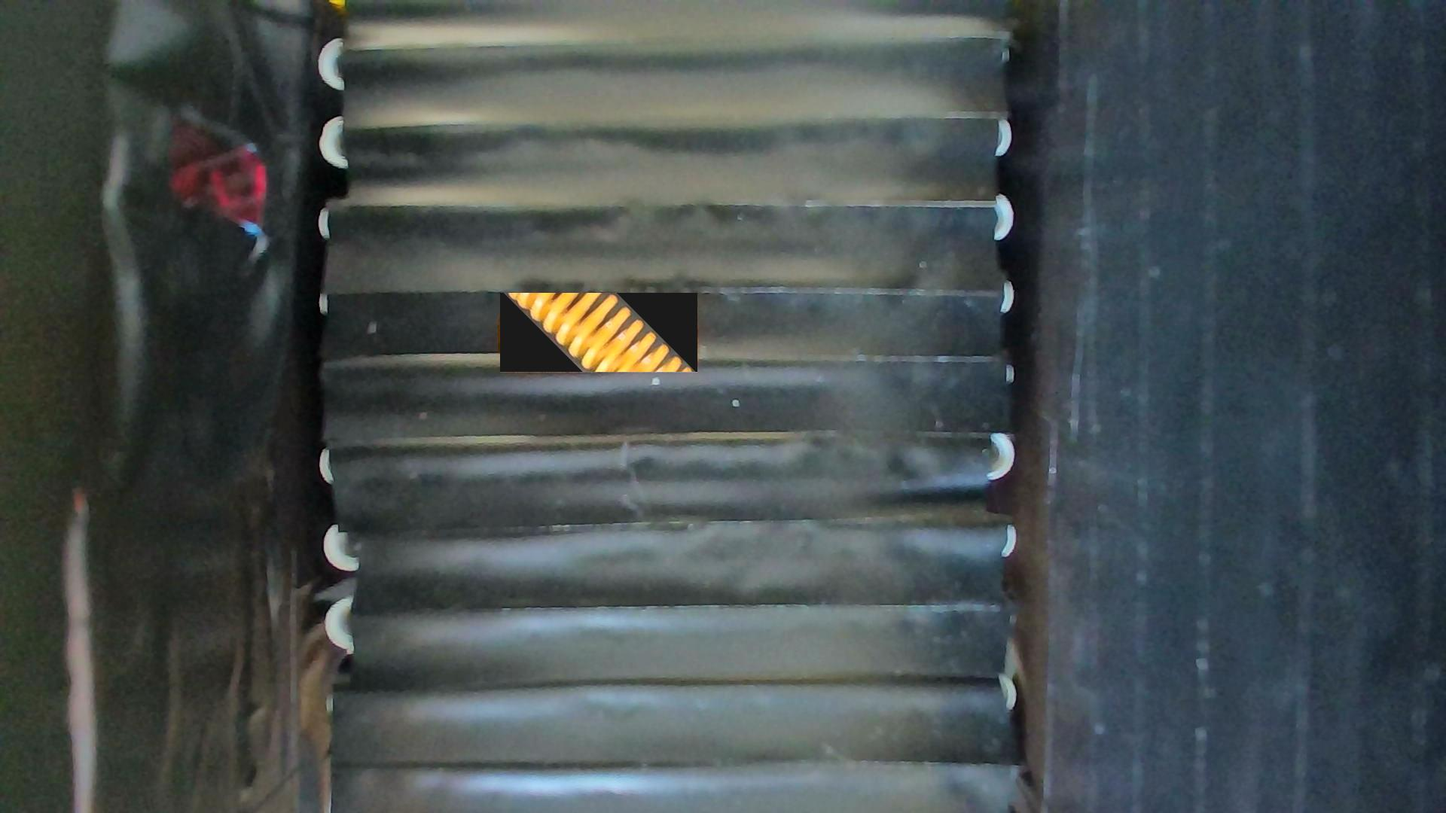spring: (500, 294, 698, 373)
